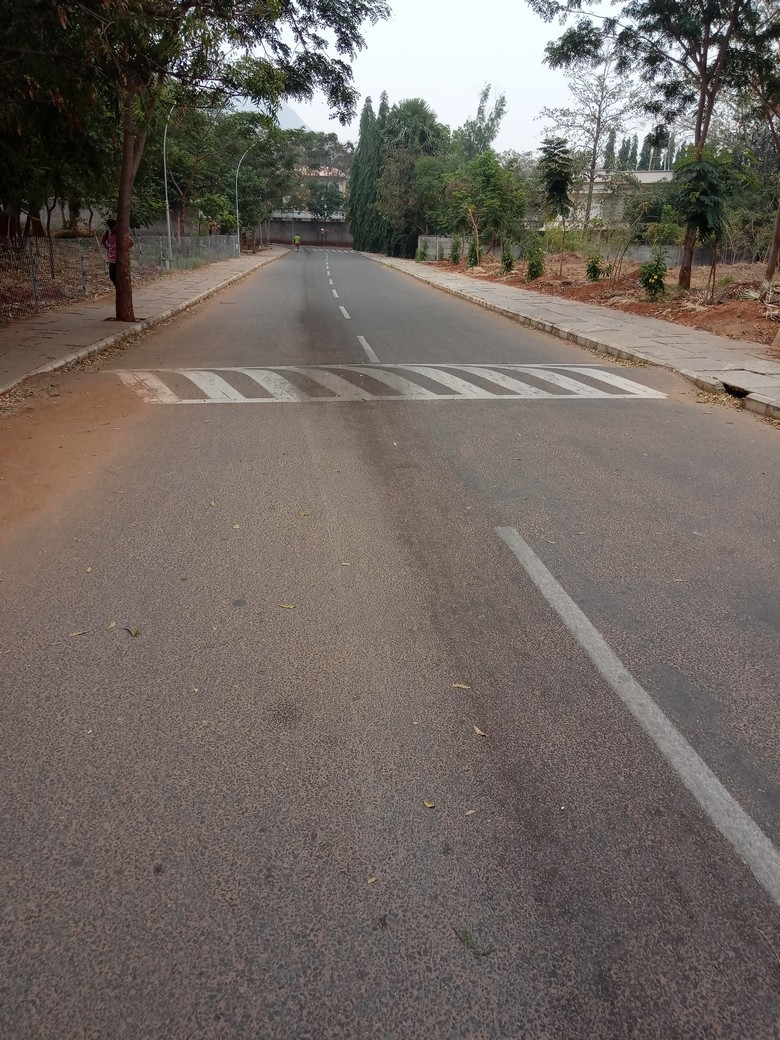bump: (26, 362, 694, 404)
